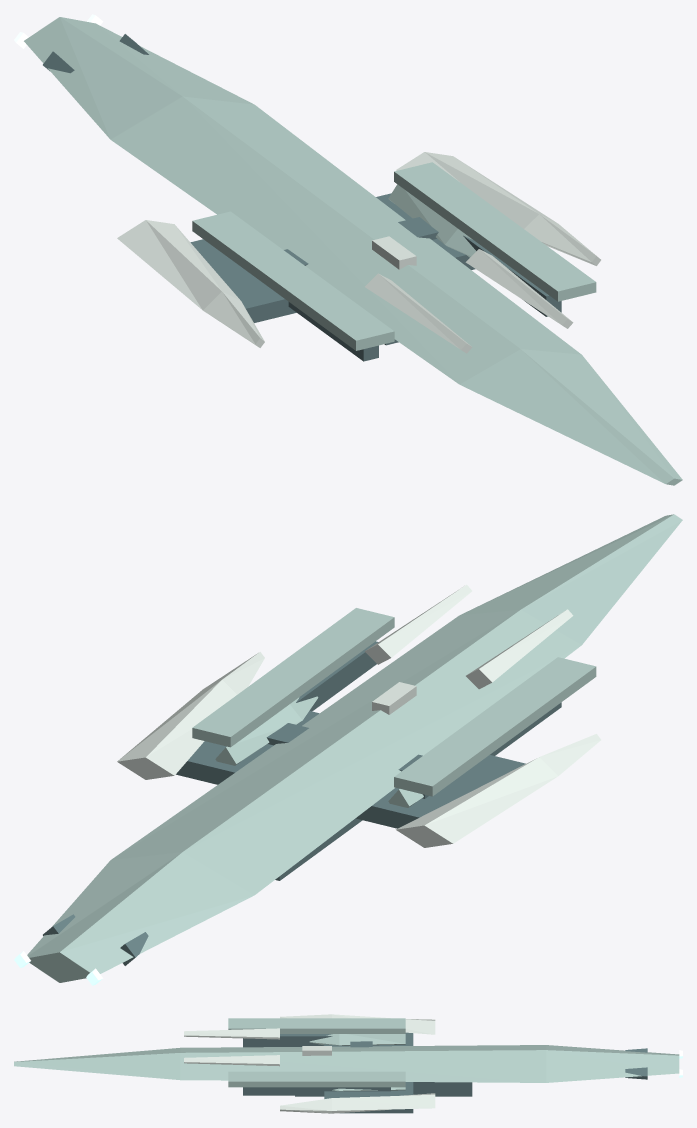
3 views of the same model, one above another, from view 1: azimuth 30°, elevation 25°; view 2: azimuth 150°, elevation 25°; view 3: azimuth 270°, elevation 25° (orthographic). The views are drawn at different scales.
Size of the model in its own units: 6.73 by 1.58 by 20.27.
